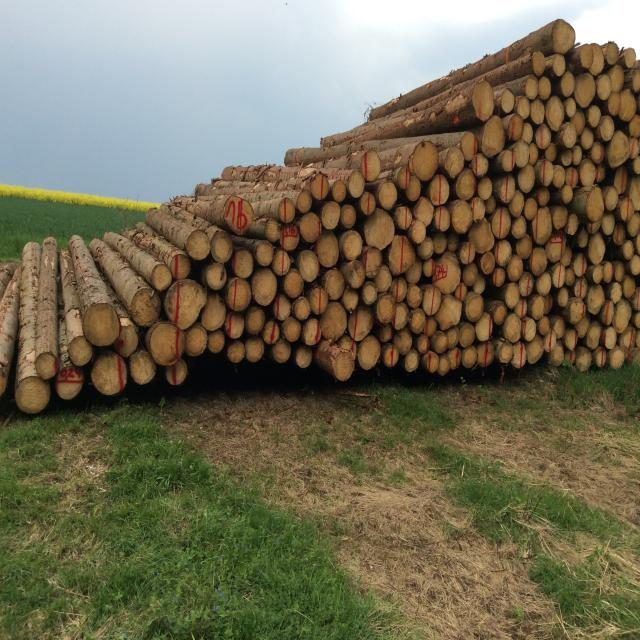wood-log: (164, 279, 206, 330), (91, 350, 128, 395), (82, 303, 120, 346), (150, 323, 185, 365), (15, 375, 50, 413), (432, 251, 461, 295), (364, 208, 395, 249), (224, 196, 254, 236), (129, 288, 160, 326), (319, 301, 348, 341), (412, 141, 439, 181), (250, 268, 278, 306), (480, 115, 505, 157), (200, 291, 226, 331), (389, 236, 415, 276), (129, 348, 156, 385), (55, 366, 84, 400), (314, 229, 339, 268), (435, 295, 462, 331), (468, 219, 495, 254), (348, 305, 374, 341), (472, 80, 494, 122), (551, 18, 575, 54), (531, 206, 552, 246), (606, 132, 630, 167), (114, 325, 139, 358), (226, 278, 251, 311), (574, 72, 596, 109), (358, 335, 381, 370), (296, 249, 319, 283), (68, 335, 92, 367), (185, 323, 208, 356), (210, 229, 232, 263), (545, 95, 565, 131), (185, 231, 210, 259), (452, 199, 472, 234), (334, 350, 355, 382), (455, 169, 476, 201), (545, 231, 566, 263), (231, 249, 254, 278), (612, 300, 631, 335), (282, 268, 304, 298), (325, 268, 345, 301), (361, 248, 382, 279), (429, 174, 449, 206), (412, 197, 434, 226), (300, 213, 321, 243), (35, 353, 58, 380), (165, 358, 188, 385), (491, 208, 511, 239), (586, 187, 604, 221), (376, 293, 395, 325), (465, 291, 484, 323), (445, 147, 464, 179), (342, 231, 362, 261), (361, 151, 381, 181), (378, 181, 398, 211), (528, 246, 548, 276), (422, 285, 441, 316), (224, 311, 244, 340), (245, 306, 265, 335), (309, 286, 329, 315), (525, 335, 544, 365), (502, 313, 521, 343), (619, 89, 636, 122), (206, 263, 226, 291), (245, 335, 265, 363), (301, 318, 321, 346), (270, 248, 290, 276), (618, 325, 636, 356), (310, 172, 329, 201), (150, 266, 172, 291), (392, 328, 412, 355), (280, 223, 299, 251), (321, 201, 340, 229), (588, 233, 605, 264), (374, 264, 392, 293), (460, 132, 478, 161), (389, 276, 408, 303), (475, 311, 492, 341), (588, 285, 605, 315), (518, 164, 535, 194), (170, 254, 190, 279), (291, 296, 311, 321), (589, 44, 604, 77), (272, 295, 291, 321), (348, 261, 365, 290), (584, 321, 601, 350), (508, 189, 525, 218), (476, 341, 494, 368), (408, 308, 426, 335), (506, 254, 524, 281), (579, 159, 596, 187), (272, 338, 291, 363), (261, 320, 280, 345), (282, 316, 301, 341), (392, 303, 409, 330), (405, 258, 422, 285), (569, 298, 586, 325), (494, 239, 511, 266), (256, 241, 274, 266), (360, 281, 378, 306), (500, 174, 515, 204), (349, 171, 365, 199), (512, 141, 529, 167), (226, 340, 245, 363), (340, 288, 359, 311), (470, 154, 489, 177), (510, 341, 526, 368), (548, 340, 564, 367), (295, 189, 312, 214), (382, 343, 399, 368), (405, 285, 422, 310), (515, 234, 532, 259), (534, 124, 551, 149), (539, 159, 554, 187), (610, 64, 625, 92), (279, 197, 295, 223), (405, 176, 421, 202), (575, 346, 591, 372), (338, 335, 356, 358), (416, 236, 434, 259), (461, 263, 479, 286), (509, 114, 524, 141), (530, 99, 545, 126), (600, 115, 615, 142), (570, 109, 585, 136), (340, 204, 356, 229), (360, 191, 376, 216), (396, 206, 412, 231), (459, 323, 475, 348), (410, 219, 426, 244), (596, 75, 612, 100), (614, 166, 628, 194), (208, 330, 225, 353), (295, 345, 312, 368), (461, 345, 478, 368), (629, 176, 640, 211), (492, 301, 508, 325), (609, 346, 625, 370), (522, 197, 538, 221), (476, 177, 492, 201), (620, 196, 634, 223), (561, 70, 575, 97), (435, 206, 450, 231), (600, 301, 615, 326), (519, 271, 534, 296), (571, 253, 586, 278), (551, 164, 566, 189), (432, 231, 448, 254), (535, 273, 551, 296), (552, 206, 568, 229), (510, 216, 526, 239), (531, 295, 545, 321), (525, 74, 539, 100), (580, 44, 594, 70), (265, 219, 280, 243), (470, 197, 485, 221), (621, 274, 636, 298), (542, 328, 556, 353), (505, 283, 519, 308), (552, 263, 566, 288), (626, 213, 640, 238), (601, 211, 615, 236), (605, 186, 619, 211), (501, 89, 515, 114), (562, 122, 576, 147), (331, 179, 346, 202), (460, 241, 475, 264), (575, 315, 590, 338), (480, 251, 495, 274), (611, 223, 626, 246), (434, 331, 448, 355), (574, 276, 588, 300), (580, 127, 594, 151), (405, 350, 420, 372), (499, 341, 514, 363), (608, 92, 621, 117), (532, 52, 545, 77), (522, 318, 536, 341), (606, 42, 620, 65), (448, 346, 461, 370), (446, 326, 459, 350), (605, 326, 618, 350), (472, 273, 486, 295), (491, 266, 505, 288), (565, 214, 579, 236), (379, 323, 394, 343), (518, 95, 530, 120), (538, 77, 551, 100), (552, 54, 565, 77), (438, 353, 450, 377), (426, 351, 439, 373), (591, 142, 604, 164), (521, 122, 534, 144), (424, 316, 438, 336), (454, 281, 468, 301), (555, 288, 569, 308), (514, 298, 528, 318), (565, 167, 579, 187), (629, 114, 640, 139), (502, 151, 515, 172), (398, 167, 410, 189), (554, 316, 566, 338), (602, 261, 614, 283), (560, 244, 572, 266), (589, 105, 601, 127), (576, 228, 589, 248), (545, 142, 558, 162), (418, 333, 429, 355), (595, 346, 606, 368), (614, 261, 625, 283), (629, 137, 640, 159), (625, 47, 636, 69), (566, 330, 578, 350), (610, 283, 622, 303), (529, 142, 539, 166), (564, 97, 576, 117), (539, 187, 550, 208), (422, 259, 435, 276), (539, 316, 550, 336), (623, 239, 634, 259), (595, 162, 606, 182), (571, 146, 582, 166), (448, 233, 460, 251), (484, 196, 496, 214), (631, 254, 640, 276), (561, 186, 572, 204), (586, 221, 601, 234), (593, 264, 602, 285), (561, 149, 572, 166), (632, 288, 640, 311), (632, 69, 640, 92), (564, 350, 576, 365), (565, 268, 575, 286), (544, 293, 552, 315), (633, 346, 640, 367), (634, 154, 640, 174), (635, 312, 640, 330)
